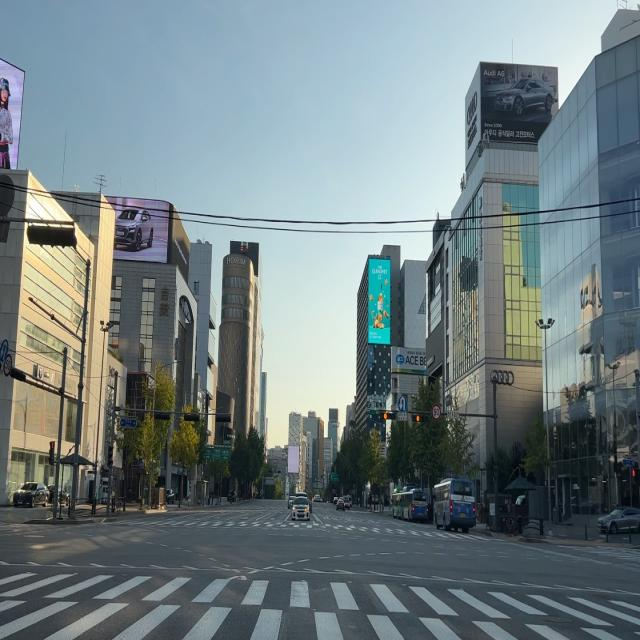Yellow Light: (383, 412, 388, 420), (416, 415, 420, 422)
